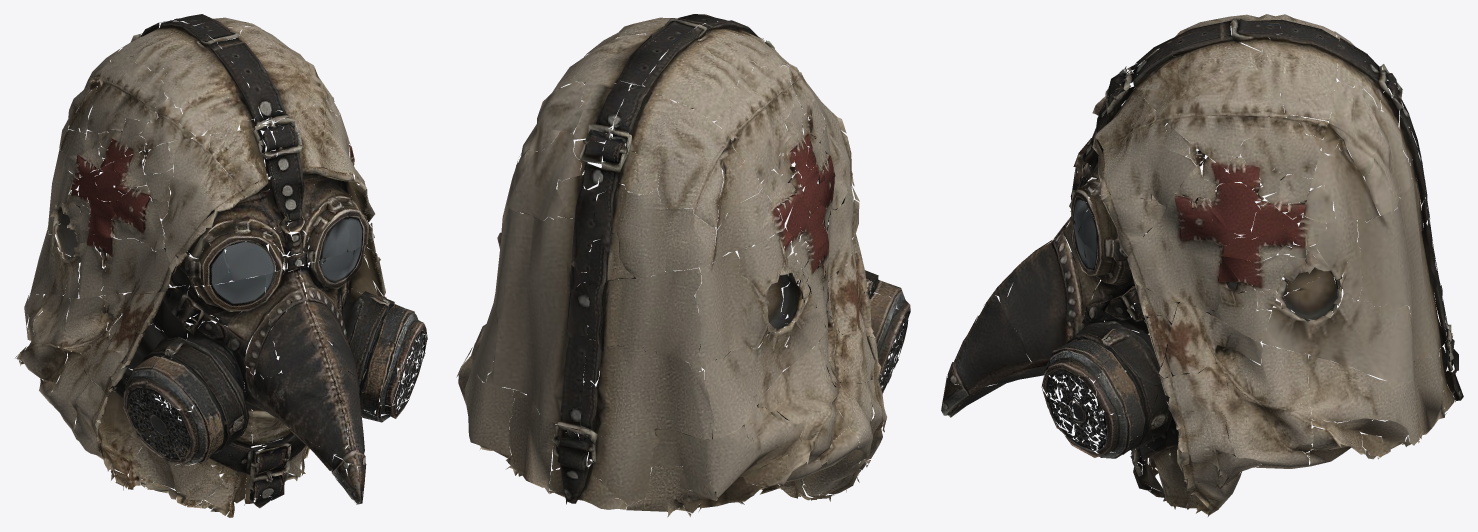
The model's file is a_ward_mask.glb.
The picture shows the model from 3 angles, left to right: view 1: azimuth 30°, elevation 25°; view 2: azimuth 150°, elevation 25°; view 3: azimuth 270°, elevation 25°; orthographic projection. The views are drawn at different scales.
Parts seen in each view (by area): view 1: tripo_node_d6661f3f-70c5-4264-bc19-4c6a00129a35; view 2: tripo_node_d6661f3f-70c5-4264-bc19-4c6a00129a35; view 3: tripo_node_d6661f3f-70c5-4264-bc19-4c6a00129a35.
Part boxes in pixels (<box>): tripo_node_d6661f3f-70c5-4264-bc19-4c6a00129a35: <box>15,14,427,517</box>; tripo_node_d6661f3f-70c5-4264-bc19-4c6a00129a35: <box>456,14,910,517</box>; tripo_node_d6661f3f-70c5-4264-bc19-4c6a00129a35: <box>941,14,1463,516</box>.
Bounding box in the file's own units: 0.2941 × 0.38 × 0.3818.
Materials: 1 (1 with a texture image).
